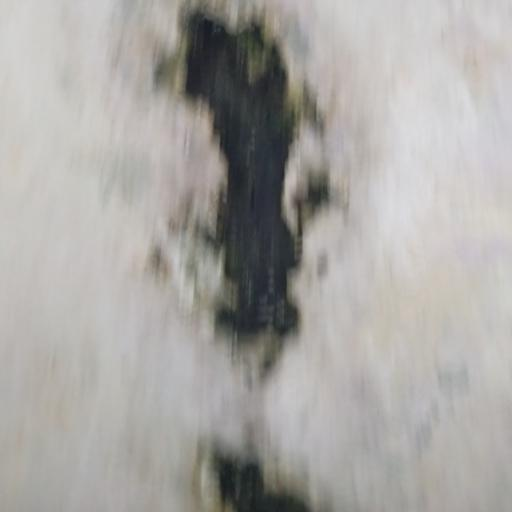algae: (126, 0, 409, 512)
